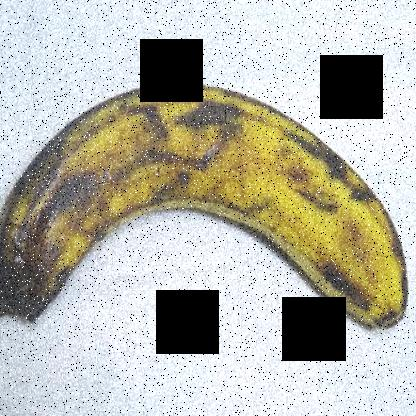overripe: (1, 68, 415, 372)
rotten: (1, 165, 107, 362)
